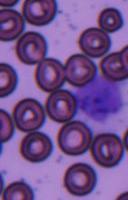L: (74, 76, 124, 122)
